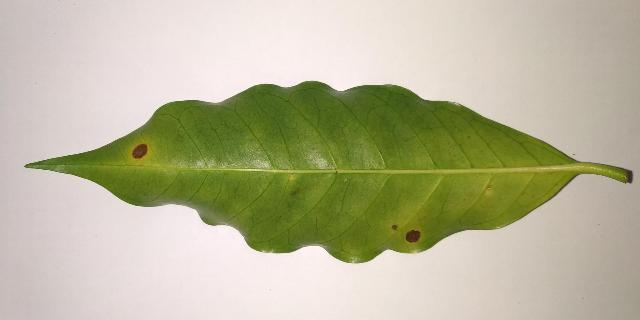phoma: (131, 143, 148, 160), (406, 230, 421, 243)
